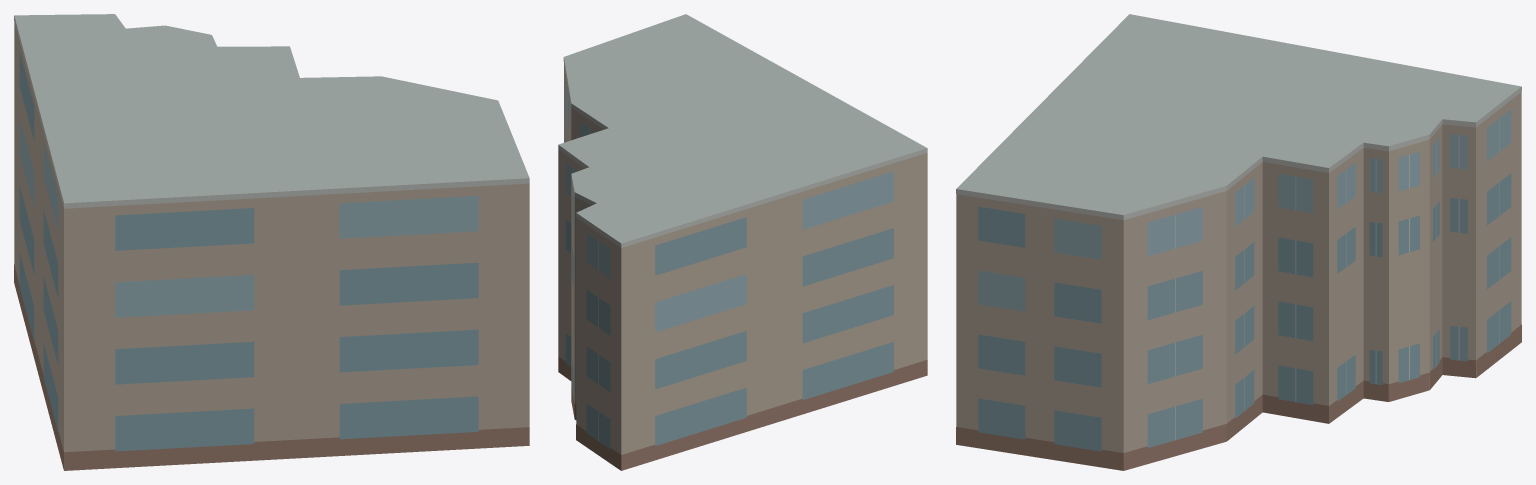
File: survey-upis-32941187.glb
3 views of the same model, side by side, from view 1: azimuth 30°, elevation 25°; view 2: azimuth 150°, elevation 25°; view 3: azimuth 270°, elevation 25° (orthographic). The views are drawn at different scales.
Visible parts, largest first — view 1: survey-upis-32941187.tmp; view 2: survey-upis-32941187.tmp; view 3: survey-upis-32941187.tmp.
Part boxes in pixels (x1,y1,x2,y2): survey-upis-32941187.tmp: (14, 14, 529, 470); survey-upis-32941187.tmp: (558, 14, 927, 470); survey-upis-32941187.tmp: (956, 14, 1521, 470).
Size of the model in its own units: 20.59 by 12.2 by 24.46.
